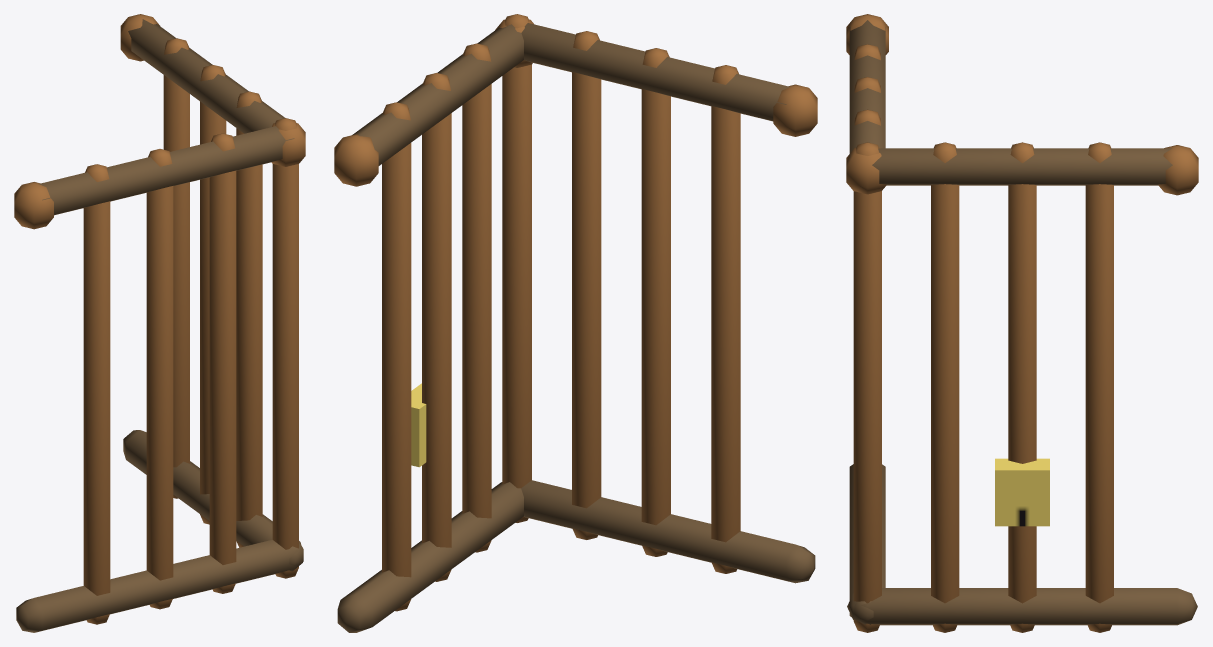
File: prop_cagef_a421.glb
3 views of the same model, side by side, from view 1: azimuth 30°, elevation 25°; view 2: azimuth 150°, elevation 25°; view 3: azimuth 270°, elevation 25° (orthographic). The views are drawn at different scales.
Parts seen in each view (by area): view 1: prop_cagef_a421; view 2: prop_cagef_a421; view 3: prop_cagef_a421.
Boxes of the visible parts, <box> form: prop_cagef_a421: <box>14,14,305,632</box>; prop_cagef_a421: <box>334,14,817,632</box>; prop_cagef_a421: <box>846,14,1198,632</box>.
Bounding box in the file's own units: 0.938 × 1.39 × 0.9045.
2 materials, 2 textured.
